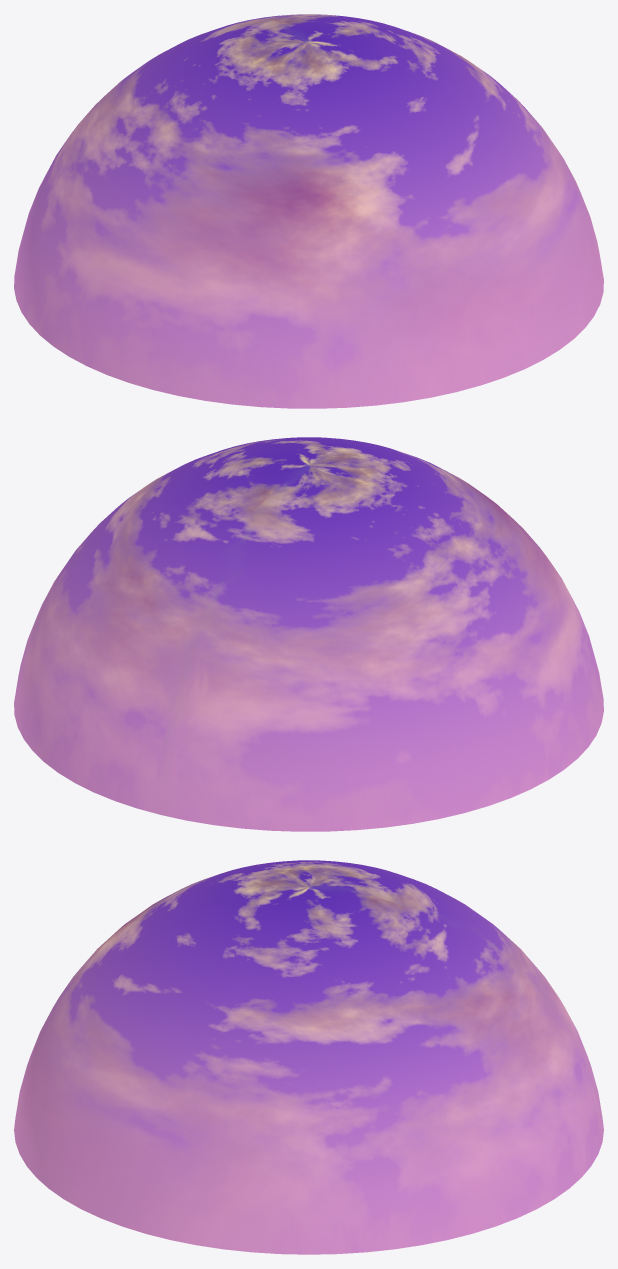
Rendered from skybox.glb.
The picture shows the model from 3 angles, top to bottom: view 1: azimuth 30°, elevation 25°; view 2: azimuth 150°, elevation 25°; view 3: azimuth 270°, elevation 25°; orthographic projection.
Parts seen in each view (by area): view 1: Sphere; view 2: Sphere; view 3: Sphere.
Part boxes in pixels (x1=…): Sphere: x1=14, y1=14, x2=603, y2=408; Sphere: x1=14, y1=437, x2=603, y2=831; Sphere: x1=14, y1=860, x2=603, y2=1254.
Bounding box in the file's own units: 49.73 × 22.54 × 49.73.
2 materials, 2 textured.
